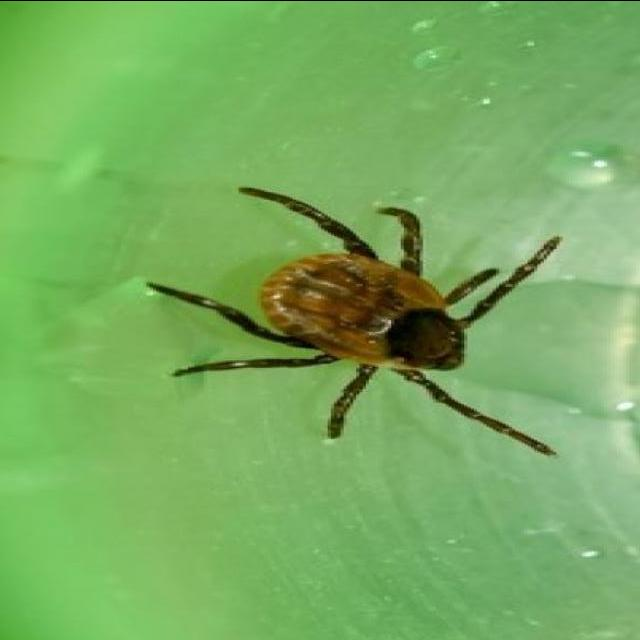Rhipicephalus Sanguineus-F: (150, 188, 560, 456)
